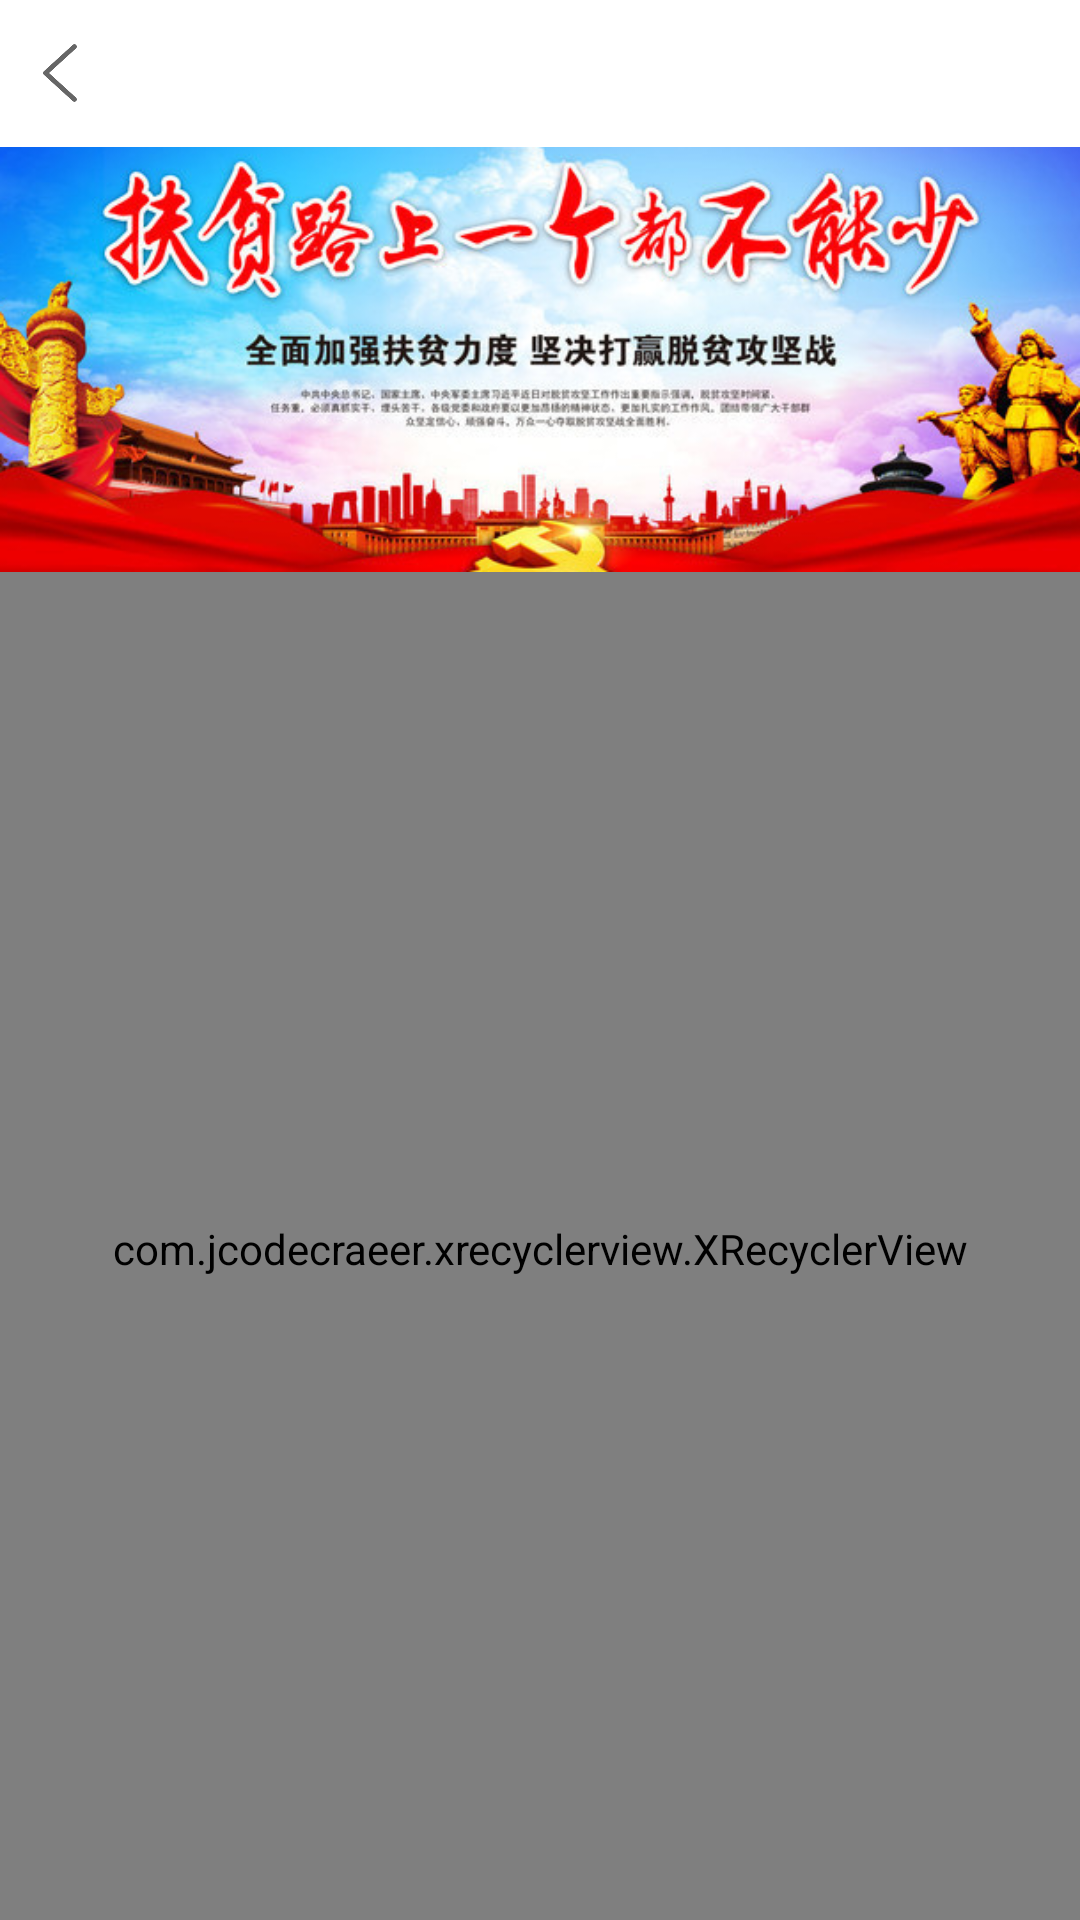

Named icons in this screenshot (1080px x 1920px) and their bounding boxes, (x1, y1, x2, y2):
back: (43, 44, 77, 102)
